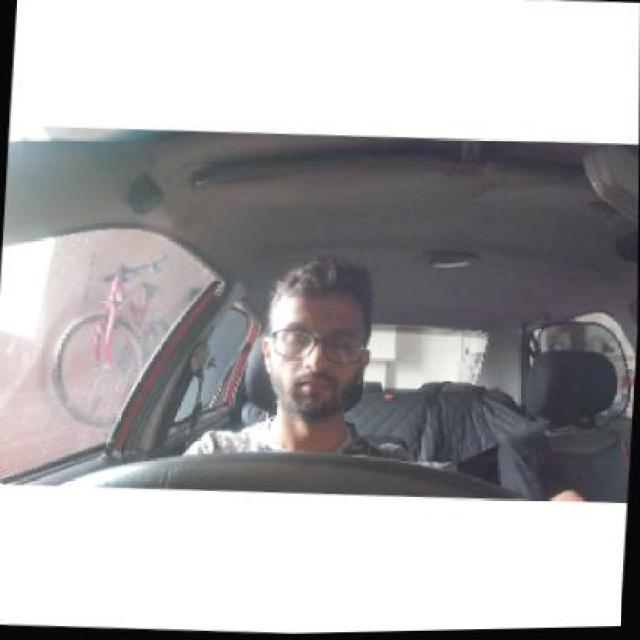drowsy: (241, 232, 382, 451)
